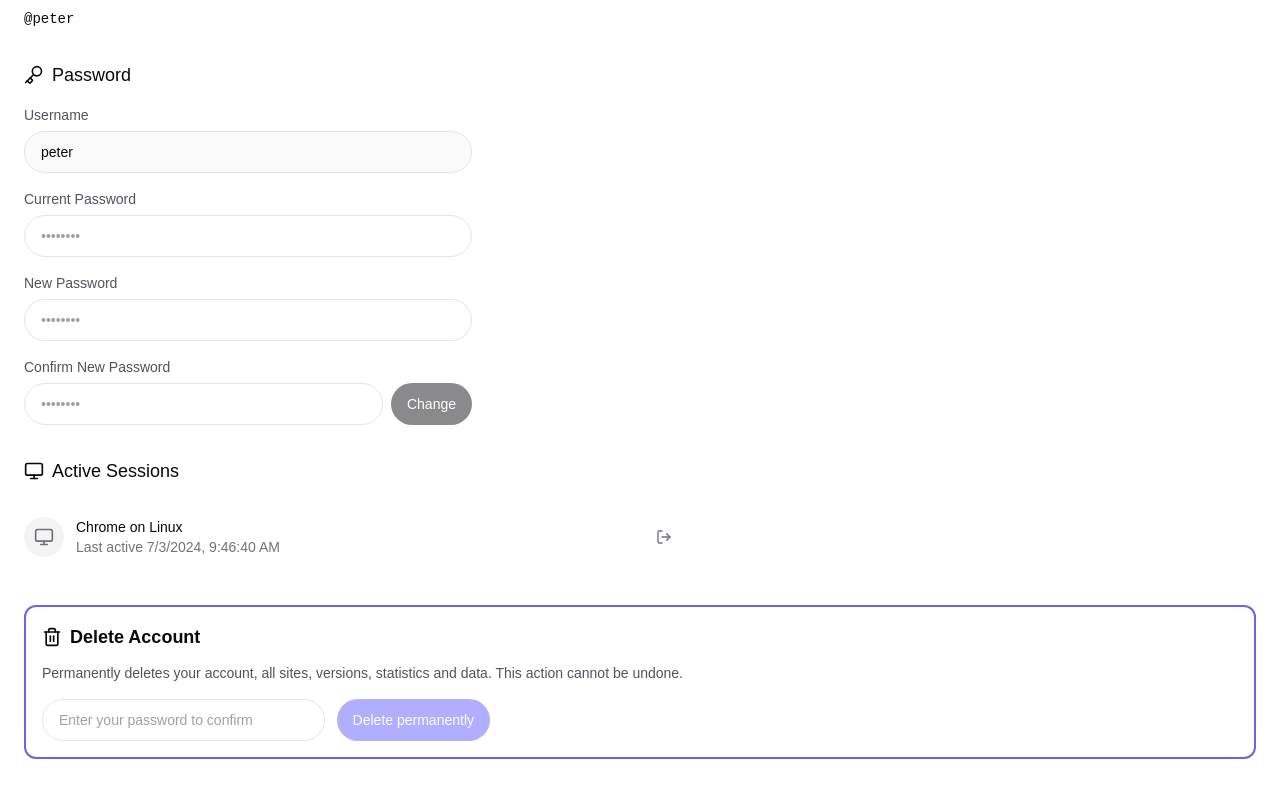
Test case: SettingsSection › requires a password before allowing account deletion
(page scrolled)
Expected: the button "Delete permanently" is disabled, [337,699,490,741]
Type "secret" into the password field with placeholder "Enter your password to confirm". click: (183, 720)
box: [42,699,325,741]
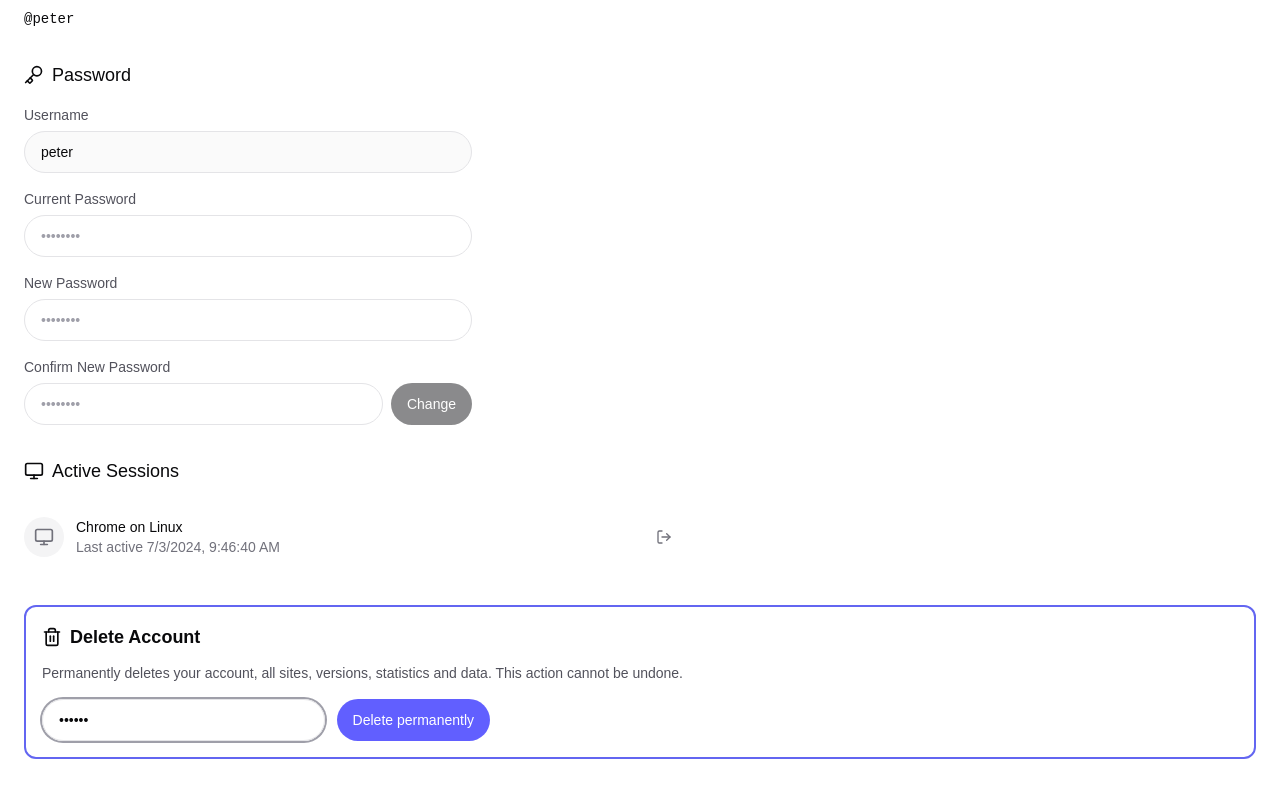
Result: the button "Delete permanently" is enabled at [337,699,490,741]
